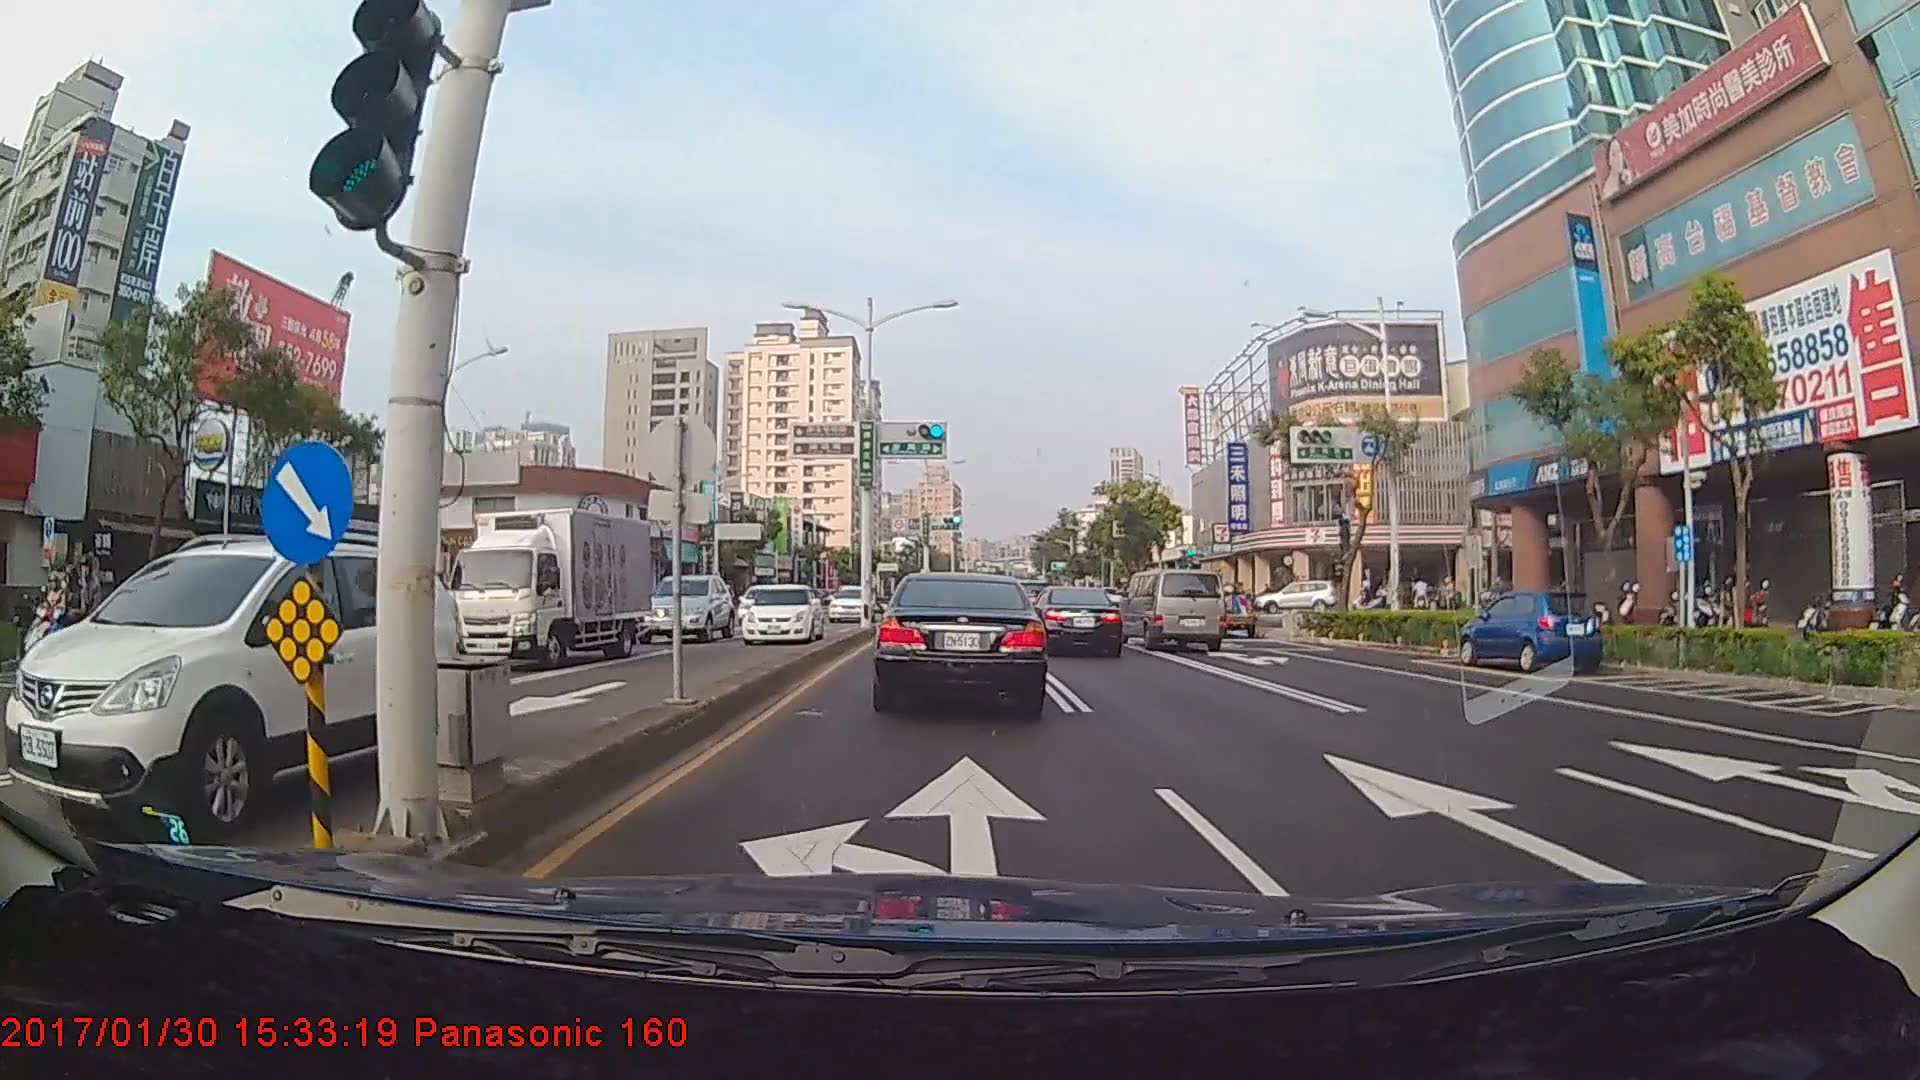vehicle: (37, 527, 465, 843), (447, 502, 651, 669), (876, 568, 1046, 713), (1456, 587, 1604, 673), (1121, 568, 1226, 651), (630, 568, 731, 640), (1031, 585, 1124, 655), (731, 576, 819, 644), (1261, 582, 1335, 615), (824, 579, 868, 621)
